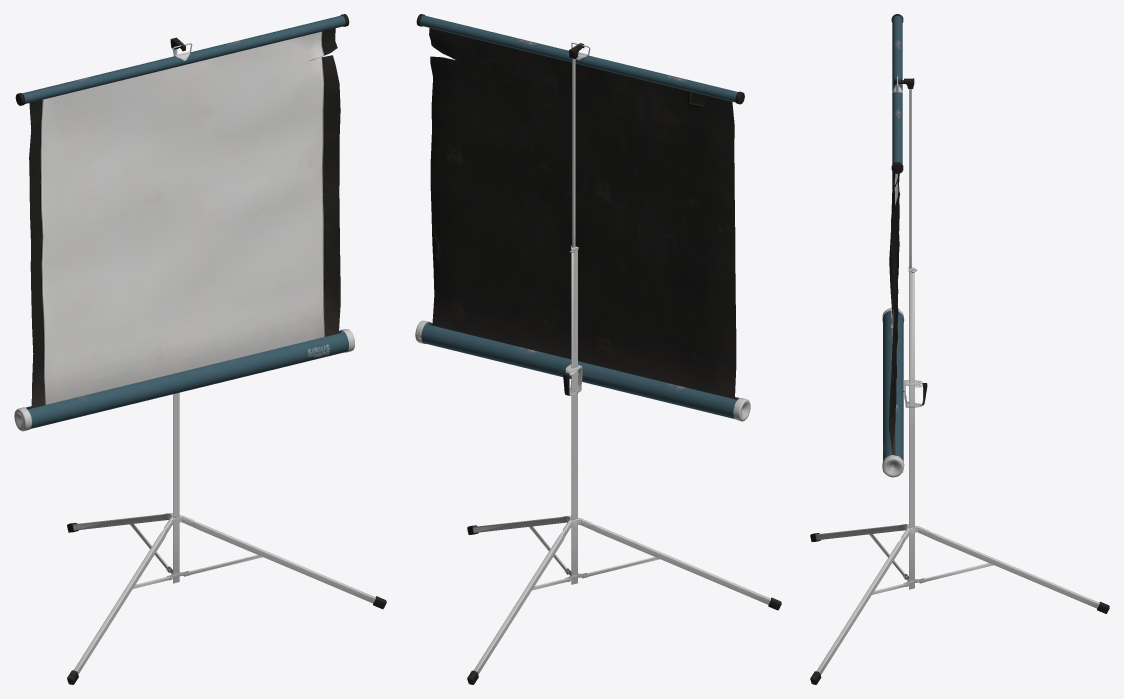
The model's file is projector_screen.glb.
3 renders of one model, left to right at view 1: azimuth 30°, elevation 25°; view 2: azimuth 150°, elevation 25°; view 3: azimuth 270°, elevation 25°, orthographic. The views are drawn at different scales.
Visible parts, largest first — view 1: projector_screen; view 2: projector_screen; view 3: projector_screen.
Boxes of the visible parts, <box> form: projector_screen: <box>14,14,386,684</box>; projector_screen: <box>415,14,781,684</box>; projector_screen: <box>810,14,1109,684</box>.
Bounding box in the file's own units: 1.09 × 1.8 × 0.9158.
2 materials, 2 textured.
